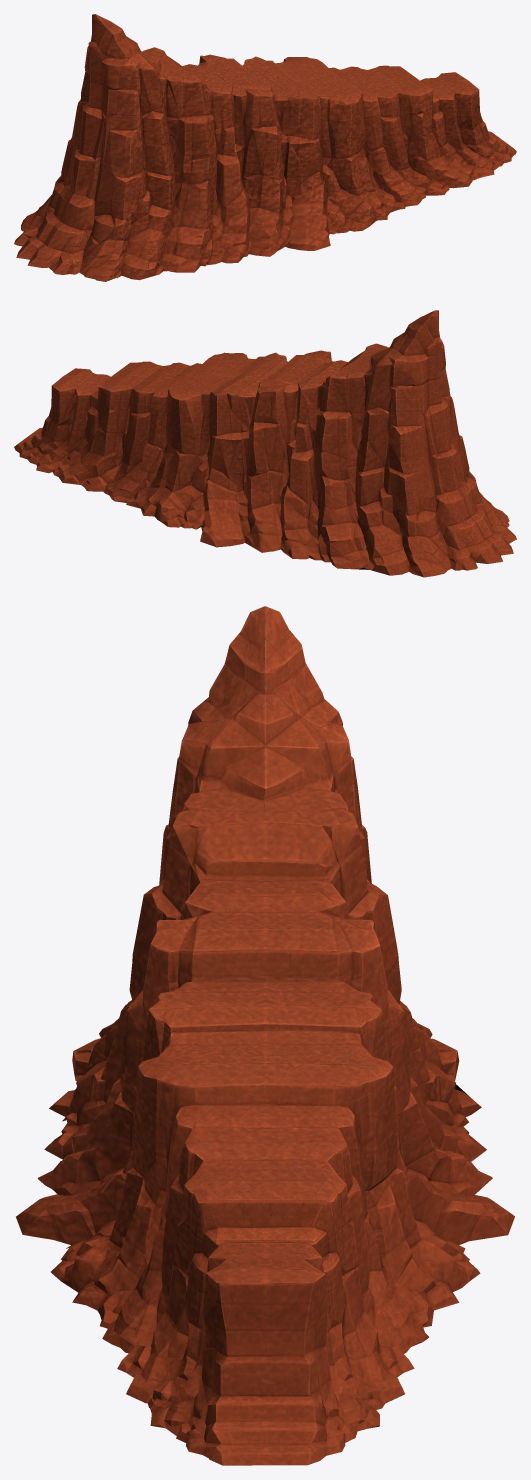
File: desert_cliff_4.glb
The picture shows the model from 3 angles, top to bottom: view 1: azimuth 30°, elevation 25°; view 2: azimuth 150°, elevation 25°; view 3: azimuth 270°, elevation 25°; orthographic projection. The views are drawn at different scales.
Parts seen in each view (by area): view 1: output_unwrapped; view 2: output_unwrapped; view 3: output_unwrapped.
Boxes of the visible parts, left/top/right/bottom form: output_unwrapped: left=14, top=14, right=516, bottom=281; output_unwrapped: left=14, top=310, right=516, bottom=577; output_unwrapped: left=16, top=606, right=514, bottom=1465.
Bounding box in the file's own units: 1.89 × 0.8572 × 0.8449.
1 material, 1 textured.
